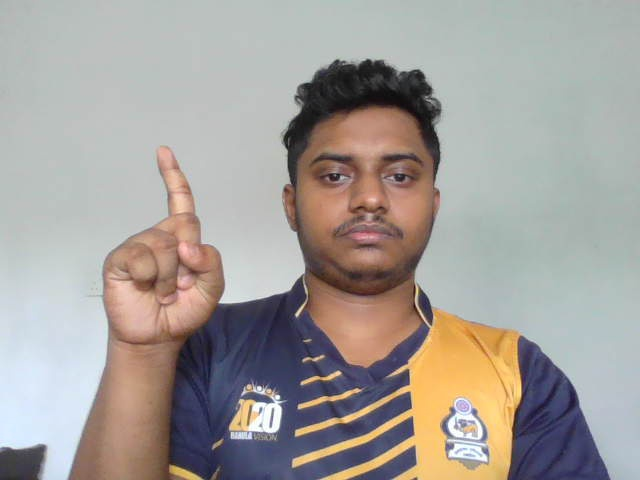Me: (101, 143, 227, 345)
